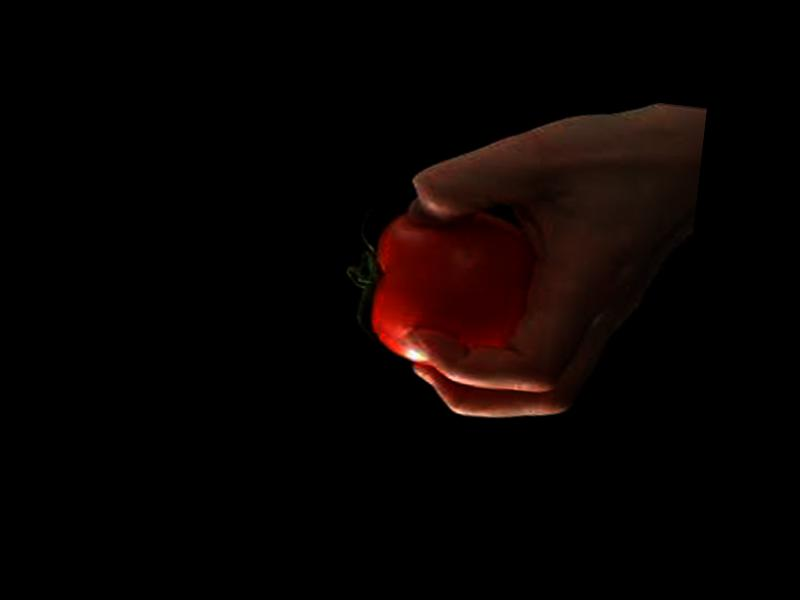Tomato: (340, 198, 533, 372)
